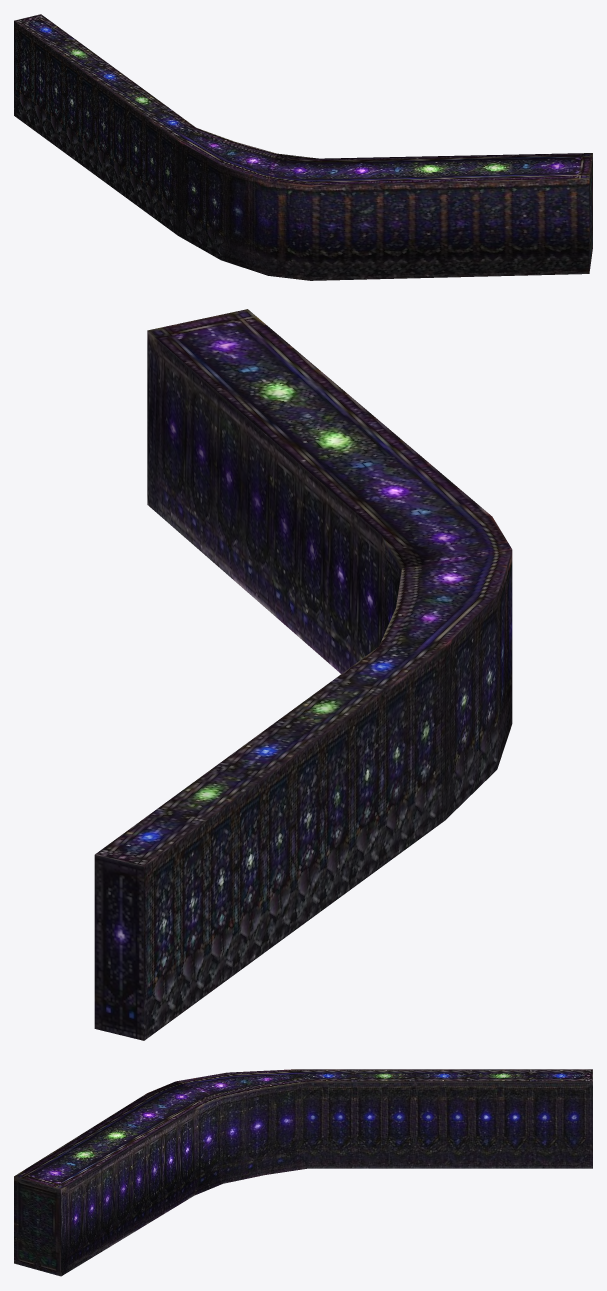
The model's file is ramp_pale_down_left_lvl_4.glb.
3 views of the same model, one above another, from view 1: azimuth 30°, elevation 25°; view 2: azimuth 150°, elevation 25°; view 3: azimuth 270°, elevation 25° (orthographic). The views are drawn at different scales.
Parts seen in each view (by area): view 1: Mesh_0.003; view 2: Mesh_0.003; view 3: Mesh_0.003.
Part boxes in pixels (x1,y1,x2,y2): Mesh_0.003: [14, 14, 592, 280]; Mesh_0.003: [94, 309, 512, 1040]; Mesh_0.003: [14, 1069, 592, 1276].
Size of the model in its own units: 0.135 by 0.0469 by 0.256.
1 material, 1 textured.
